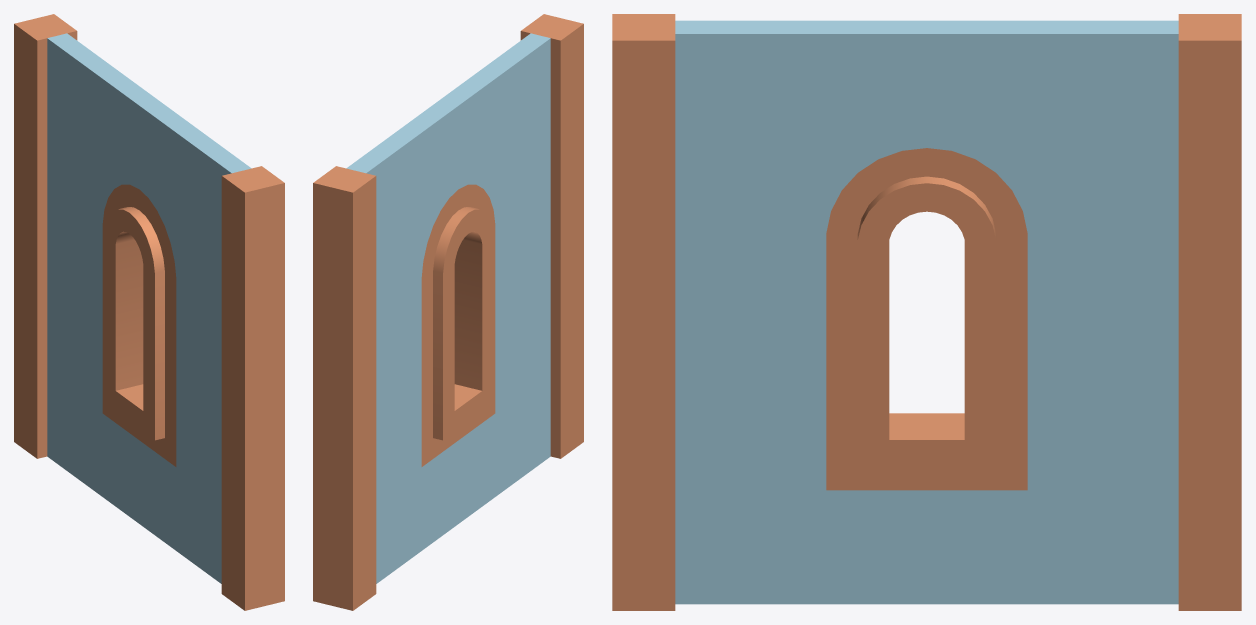
Rendered from wallWindowRound.fbx.
3 views of the same model, side by side, from view 1: azimuth 30°, elevation 25°; view 2: azimuth 150°, elevation 25°; view 3: azimuth 270°, elevation 25° (orthographic). The views are drawn at different scales.
Visible parts, largest first — view 1: wallWindowRound; view 2: wallWindowRound; view 3: wallWindowRound.
Boxes of the visible parts, x1,y1,x2,y2 form: wallWindowRound: (14,14,284,610); wallWindowRound: (313,14,583,610); wallWindowRound: (612,14,1241,610).
Bounding box in the file's own units: 1 × 10 × 10.
